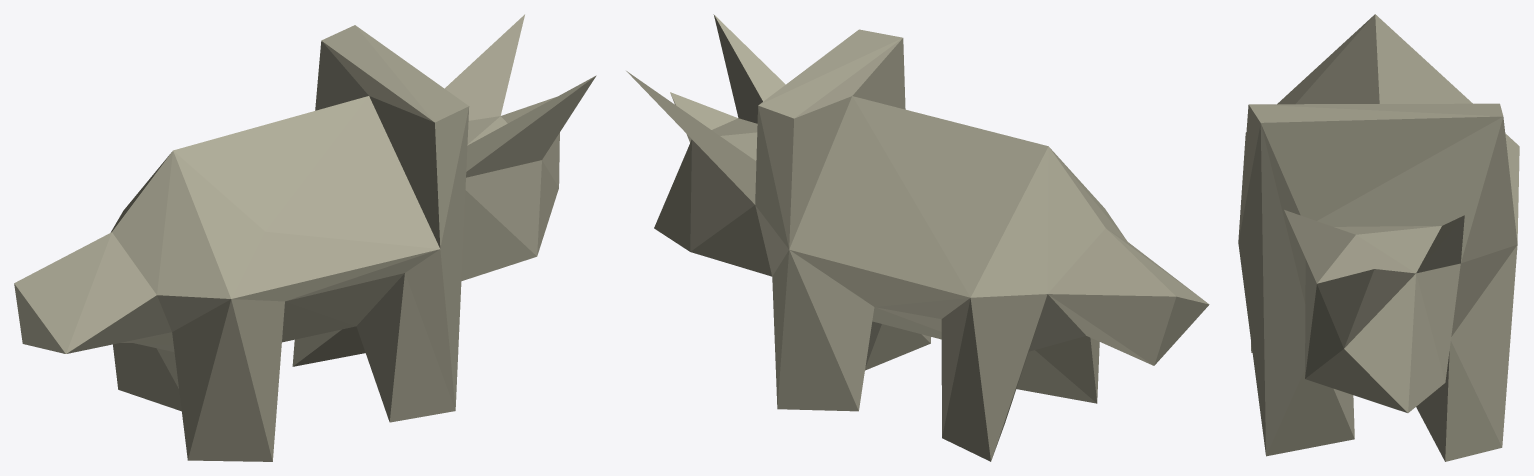
3 renders of one model, left to right at view 1: azimuth 30°, elevation 25°; view 2: azimuth 150°, elevation 25°; view 3: azimuth 270°, elevation 25°, orthographic. The views are drawn at different scales.
Visible parts, largest first — view 1: part0; view 2: part0; view 3: part0.
Boxes of the visible parts, bbox=[...] form: part0: bbox=[14, 14, 596, 461]; part0: bbox=[626, 14, 1209, 461]; part0: bbox=[1238, 14, 1519, 461].
Bounding box in the file's own units: 4.9 × 2.7 × 1.99.
